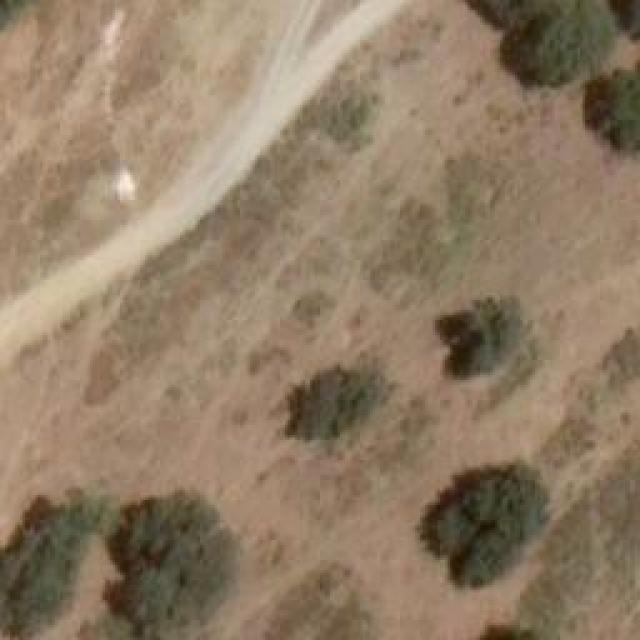Tree: (112, 492, 230, 640), (0, 497, 100, 625), (423, 473, 536, 578), (515, 0, 610, 85), (290, 365, 388, 443), (442, 302, 520, 370), (592, 55, 640, 145), (615, 0, 640, 38)
